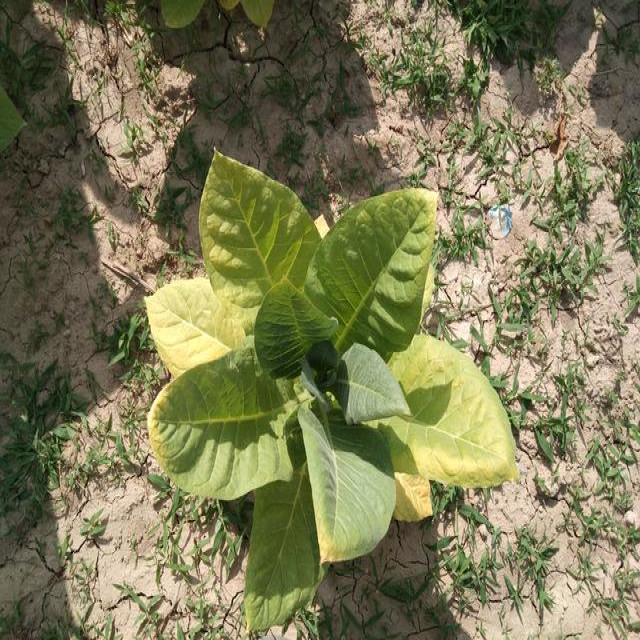crop: (143, 131, 518, 622)
